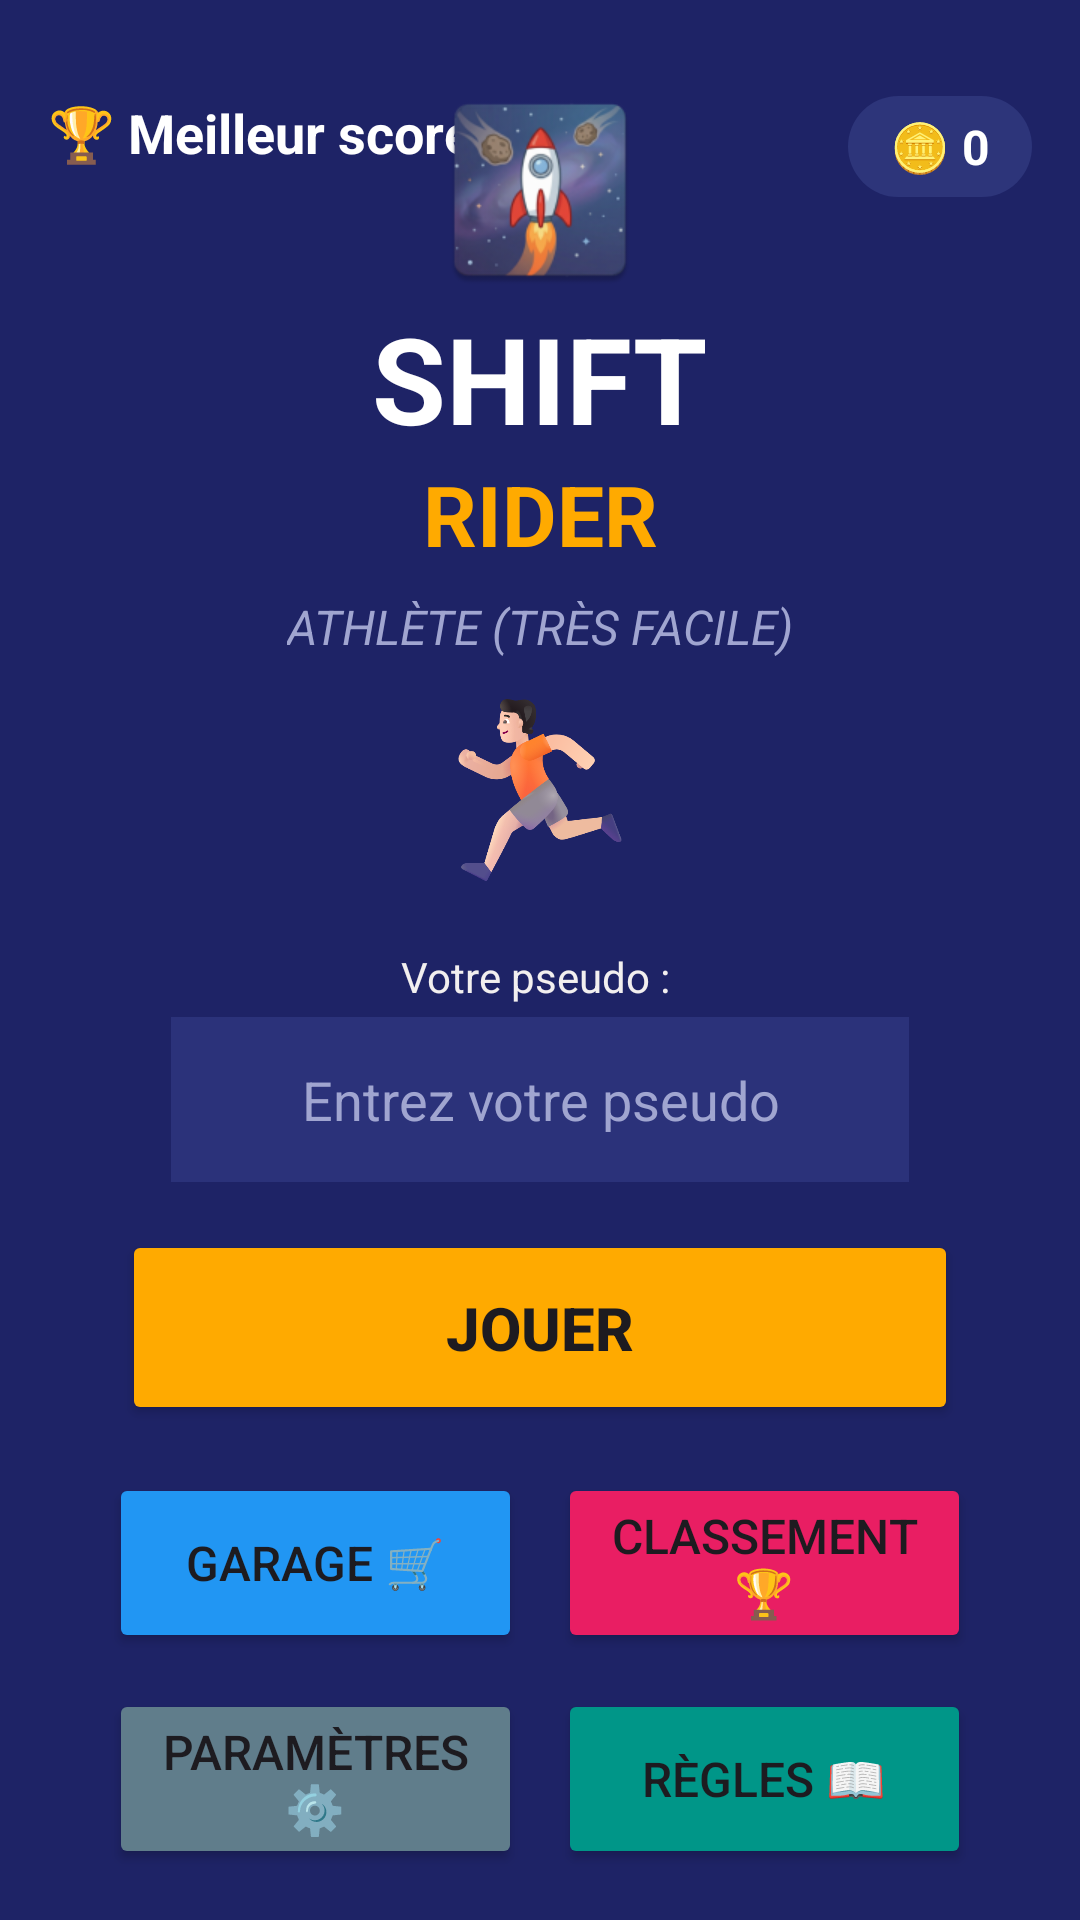

Named icons in this screenshot (1080px x 1920px) and their centers, [x,y]:
coureur: [539,790]
